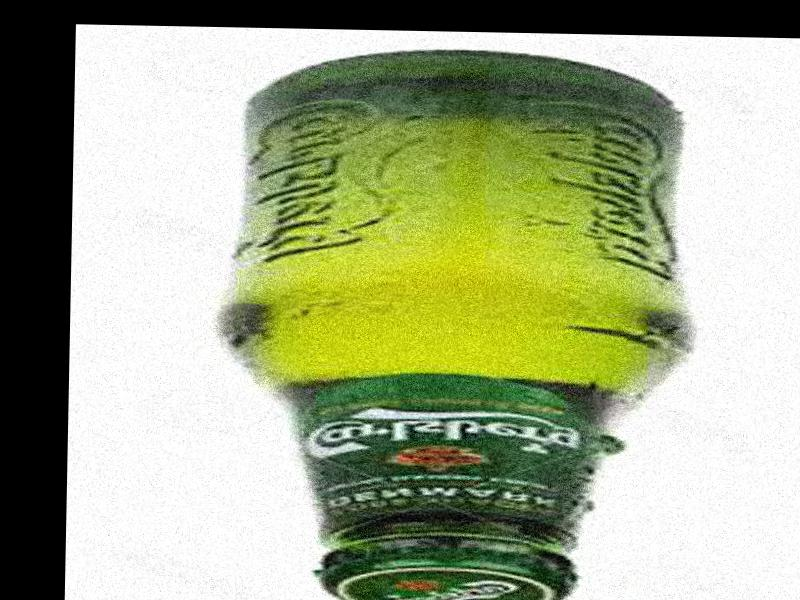Beer: (209, 43, 695, 600)
